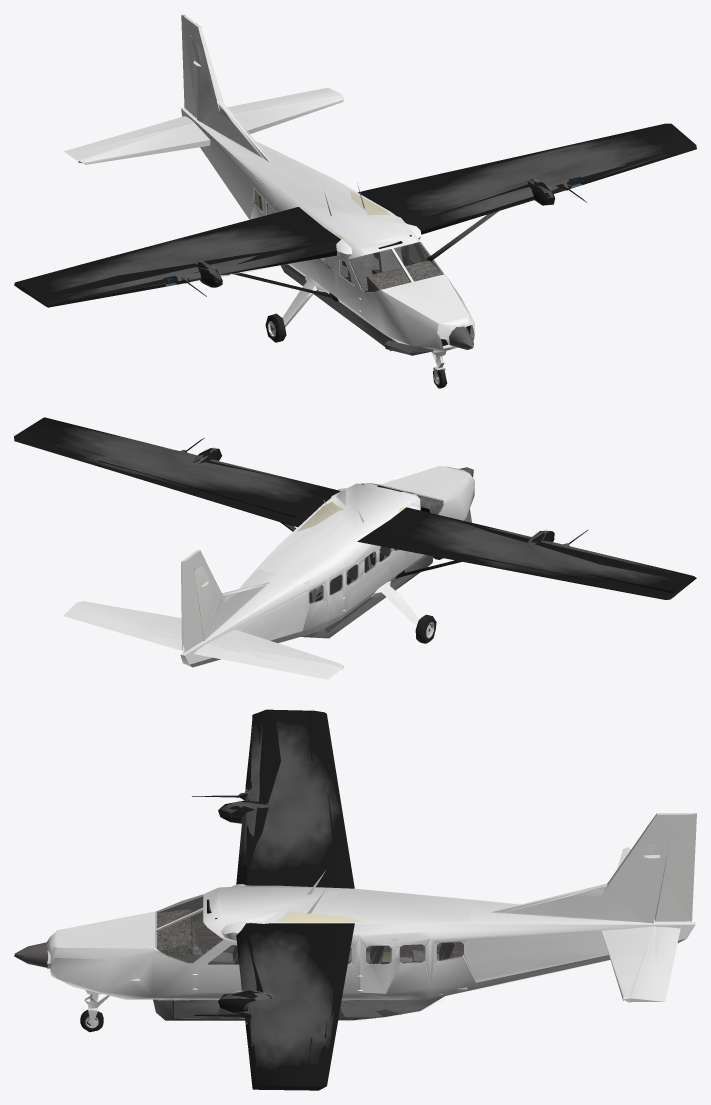
The picture shows the model from 3 angles, top to bottom: view 1: azimuth 30°, elevation 25°; view 2: azimuth 150°, elevation 25°; view 3: azimuth 270°, elevation 25°; orthographic projection. The views are drawn at different scales.
Parts seen in each view (by area): view 1: BODY; view 2: BODY; view 3: BODY.
Boxes of the visible parts, left/top/right/bottom form: BODY: left=14, top=14, right=696, bottom=388; BODY: left=14, top=417, right=696, bottom=679; BODY: left=14, top=709, right=696, bottom=1090.
Bounding box in the file's own units: 15.03 × 4.04 × 11.51.
Materials: 36 (23 with a texture image).
